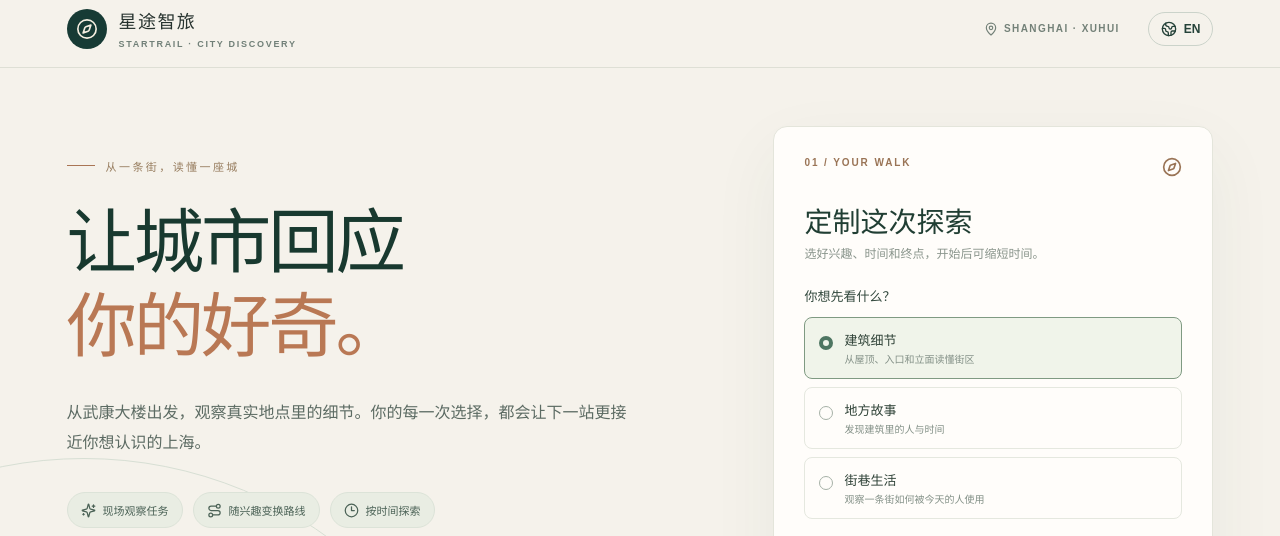
Test: visitor journey › offers a complete English experience and an ending
Click the button "EN" at (1181, 28), box x1=1148 y1=12 x2=1214 y2=46
(page scrolled)
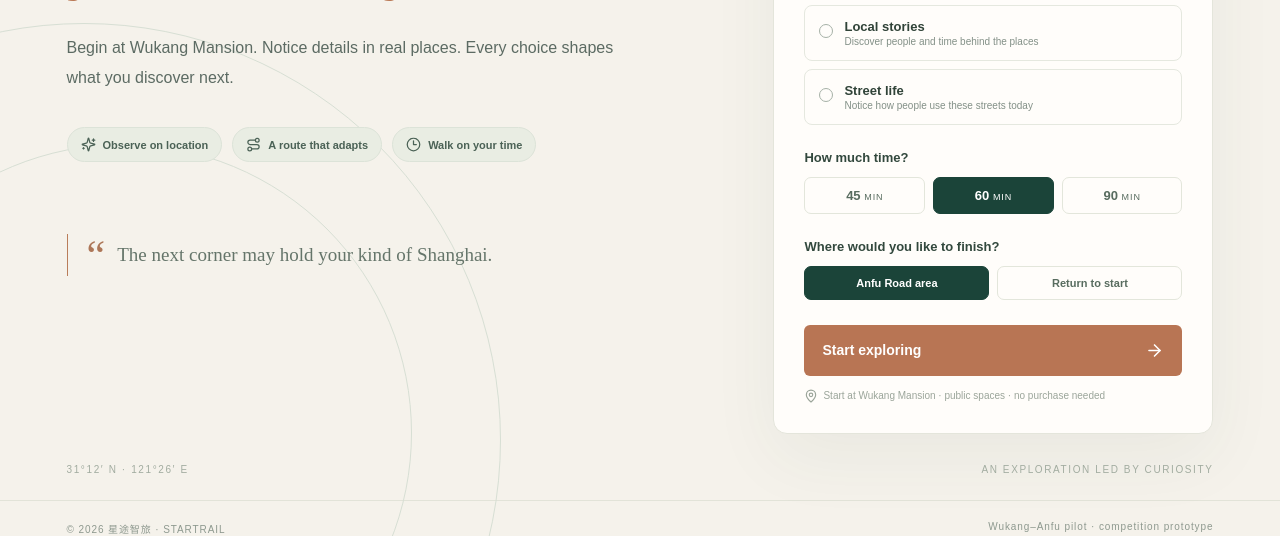
Click the button "Start exploring" at (872, 350), box x1=804 y1=325 x2=1182 y2=376
(page scrolled)
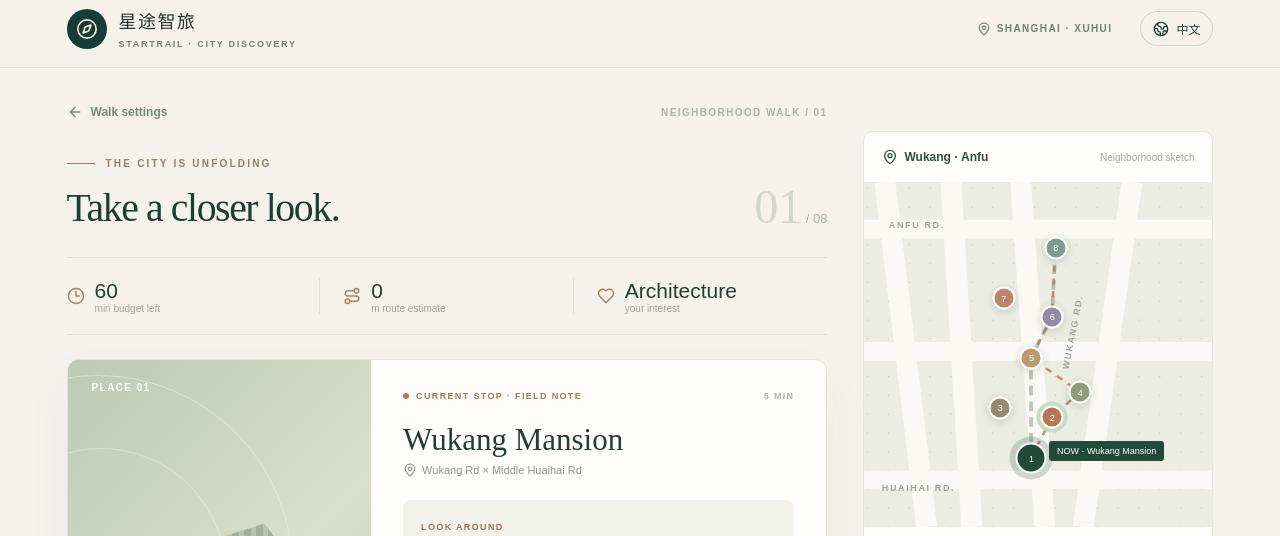
Click the button "Walk settings" at (117, 112), box x1=66 y1=104 x2=167 y2=120
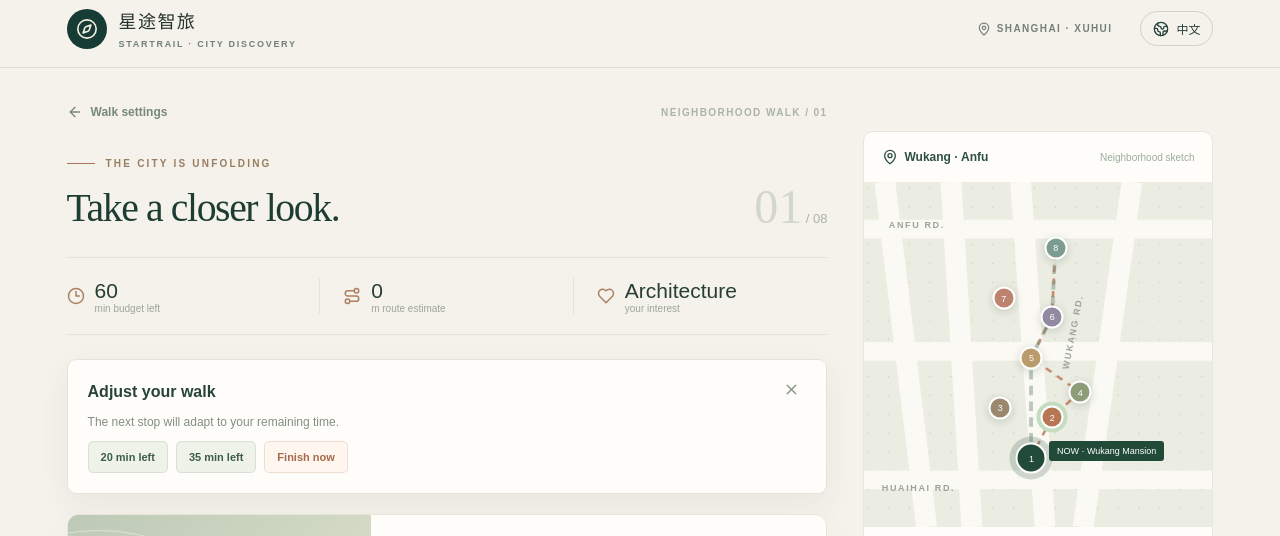
Click the button "Finish now" at (306, 457), box x1=264 y1=441 x2=348 y2=473
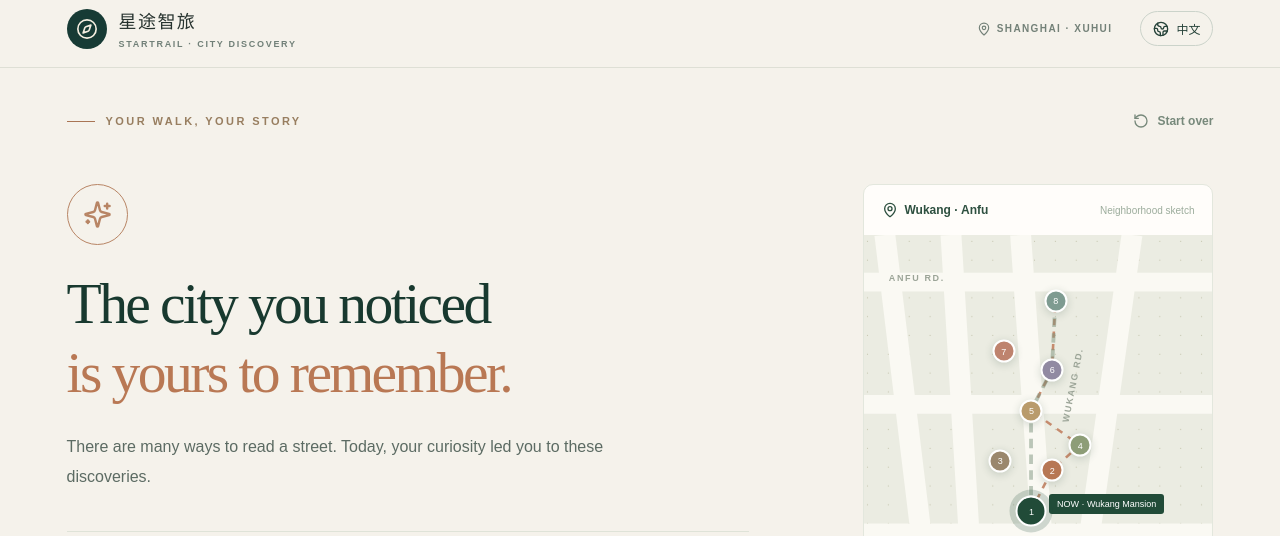
Now the heading "The city you noticed" is shown, box x1=66 y1=272 x2=511 y2=404
